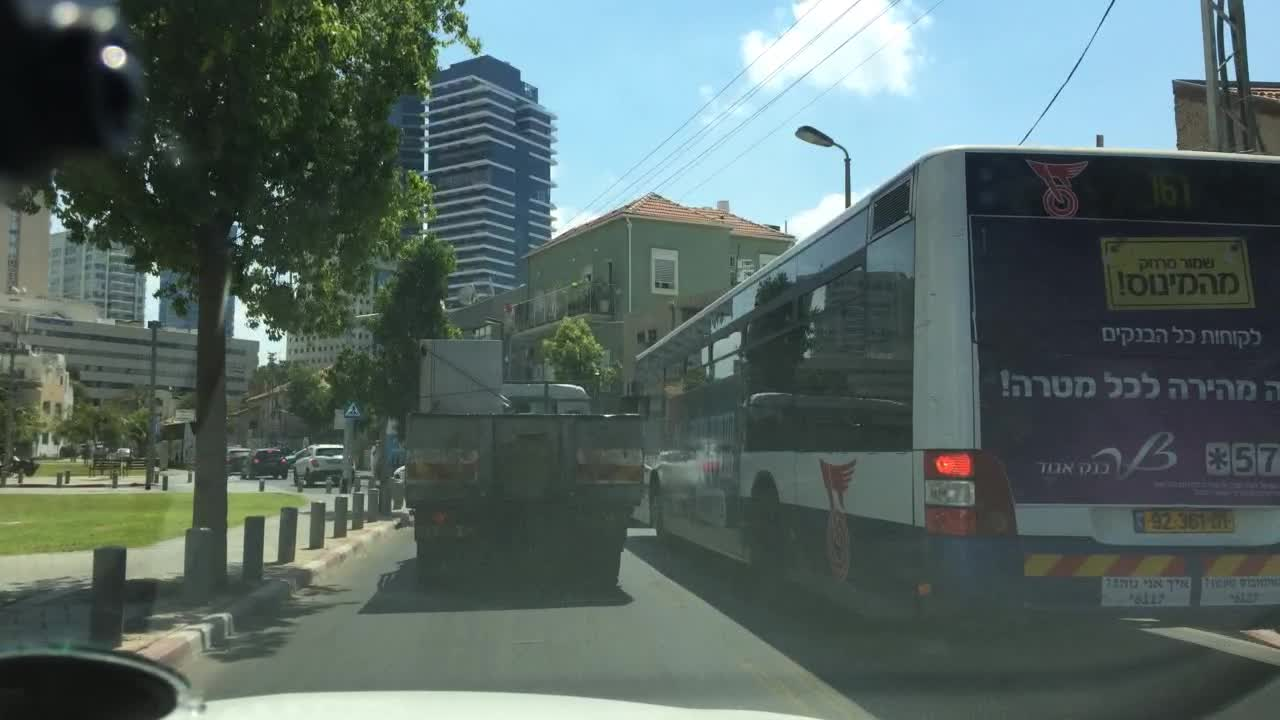bus: (627, 144, 1278, 631)
car: (292, 442, 357, 490), (239, 448, 291, 482), (224, 445, 254, 475)
traffic sign: (343, 403, 361, 418)
truck: (406, 334, 643, 592)
